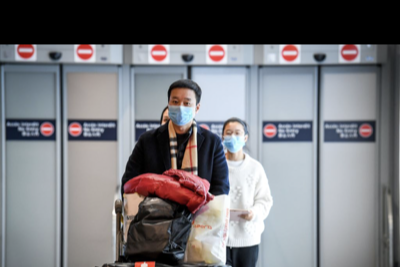with_mask: (167, 94, 196, 127), (223, 127, 245, 155)
